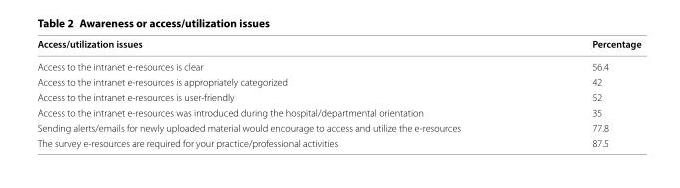table: (36, 36, 640, 148)
table column: (36, 36, 525, 148), (525, 36, 640, 148)
table column header: (36, 36, 640, 54)
table row: (36, 54, 640, 73), (36, 36, 640, 54), (36, 73, 640, 89), (36, 119, 640, 135), (36, 89, 640, 104), (36, 104, 640, 119), (36, 135, 640, 148)
